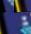mirror: (0, 0, 14, 12), (11, 12, 14, 34)
